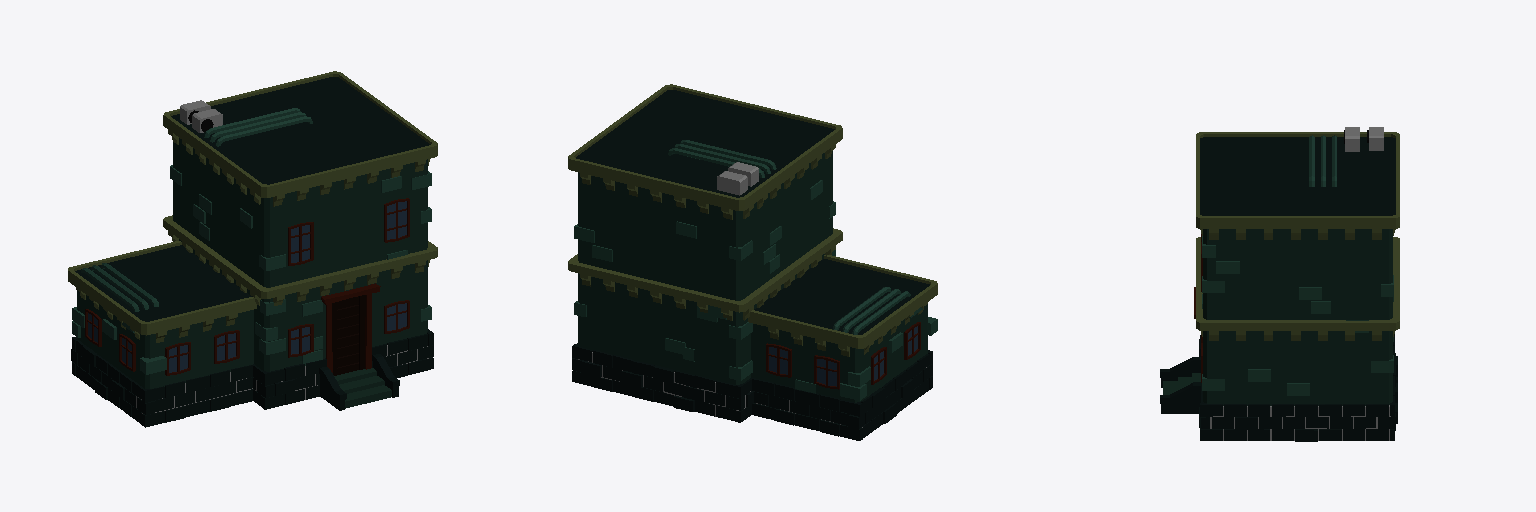
File: 2Story_Sidehouse_Mat.obj
3 views of the same model, side by side, from view 1: azimuth 30°, elevation 25°; view 2: azimuth 150°, elevation 25°; view 3: azimuth 270°, elevation 25° (orthographic).
Parts seen in each view (by area): view 1: 2Story_Sidehouse_Mat_Cube.023; view 2: 2Story_Sidehouse_Mat_Cube.023; view 3: 2Story_Sidehouse_Mat_Cube.023.
Part boxes in pixels (left/top/right/bottom): 2Story_Sidehouse_Mat_Cube.023: left=68, top=71, right=437, bottom=427; 2Story_Sidehouse_Mat_Cube.023: left=568, top=84, right=937, bottom=440; 2Story_Sidehouse_Mat_Cube.023: left=1160, top=127, right=1399, bottom=441.
Bounding box in the file's own units: 3.47 × 2.76 × 2.53.